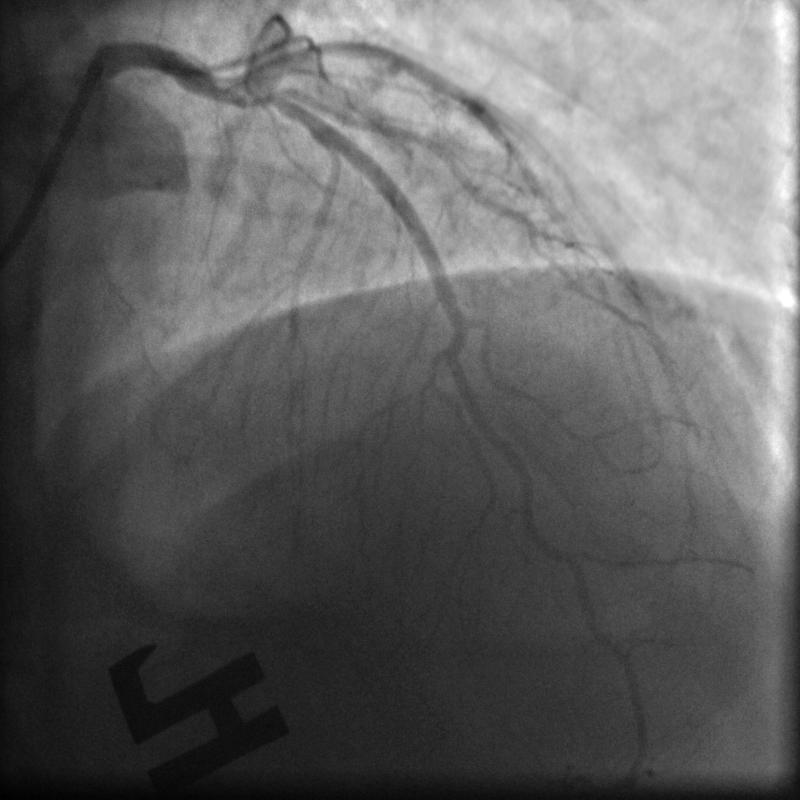Stenosis: (208, 69, 278, 111)
